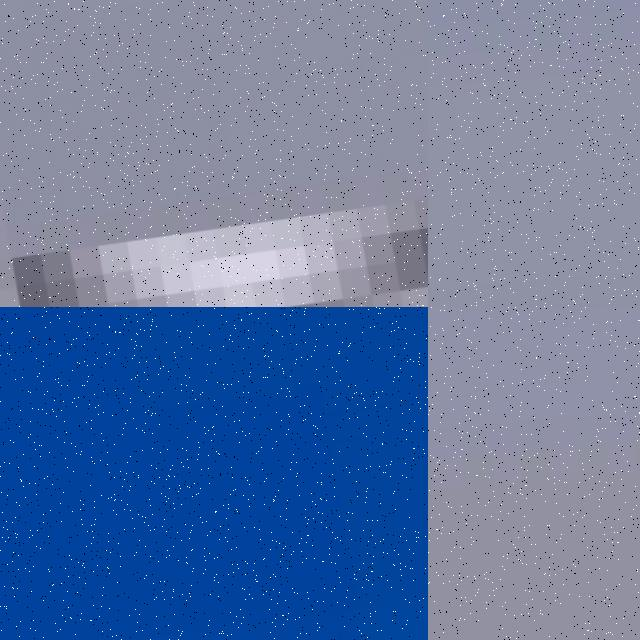drone: (0, 307, 428, 640), (0, 0, 428, 307)
